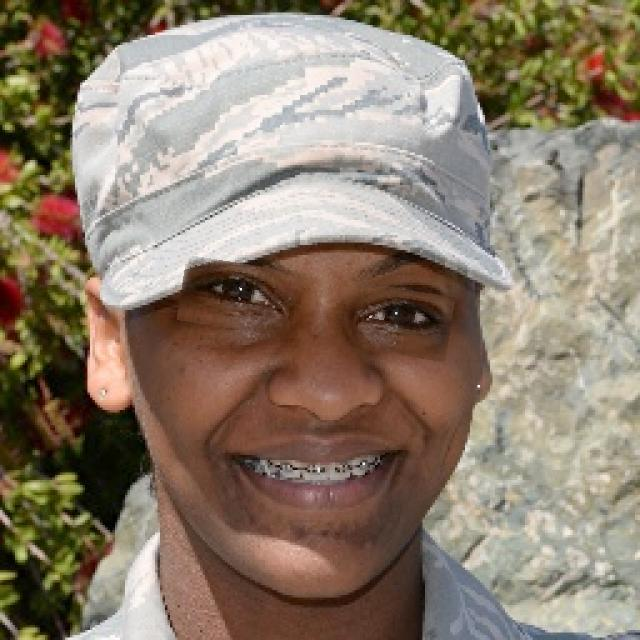no-glasses: (178, 266, 453, 352)
